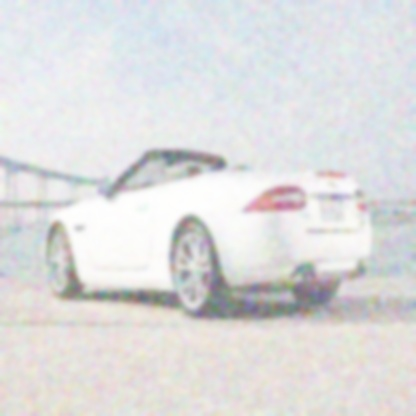Vehicle: (45, 150, 374, 321)
